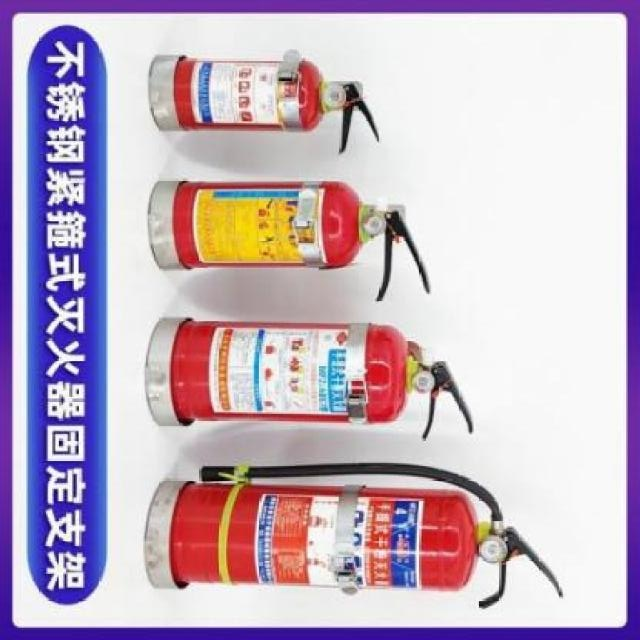fire extinguisher: (169, 463, 565, 609), (169, 321, 474, 441), (172, 181, 432, 302), (174, 49, 381, 157)
